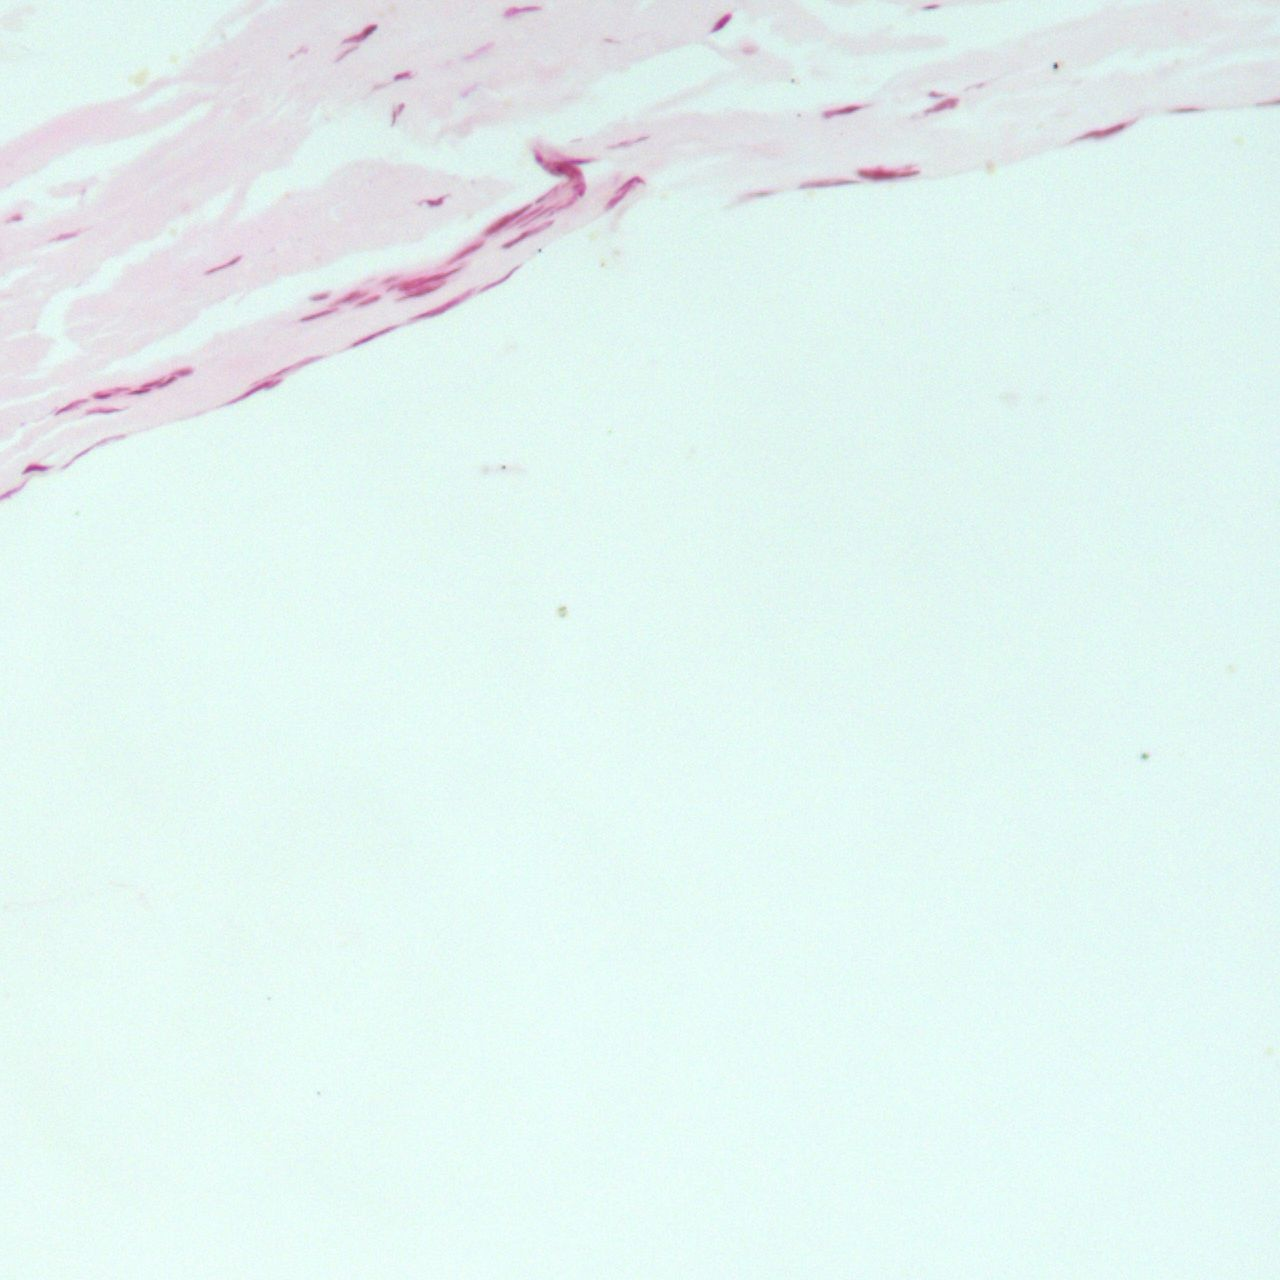dust: (557, 606, 568, 618), (1141, 751, 1149, 760), (1051, 61, 1058, 69), (501, 464, 506, 469), (537, 247, 542, 253), (797, 113, 802, 117), (791, 79, 795, 83)
nucleus-AC: (409, 287, 475, 328), (59, 429, 122, 470), (256, 350, 322, 389), (595, 172, 647, 215), (227, 374, 281, 410), (545, 158, 587, 204), (499, 217, 556, 250), (1073, 117, 1133, 147), (481, 200, 531, 236), (399, 265, 467, 291), (478, 263, 525, 297), (348, 322, 401, 350), (343, 19, 381, 49), (857, 166, 924, 183), (200, 254, 244, 278), (396, 282, 443, 302), (444, 240, 483, 264), (794, 177, 862, 190), (924, 95, 959, 120), (508, 204, 542, 227), (52, 395, 87, 417), (461, 40, 493, 62), (297, 306, 335, 325), (710, 8, 736, 35), (607, 134, 649, 150), (50, 226, 83, 246), (334, 287, 366, 307), (821, 104, 862, 117), (354, 292, 383, 309), (388, 100, 407, 127), (503, 5, 542, 18), (154, 375, 177, 392), (738, 190, 772, 200), (307, 290, 331, 304), (138, 377, 162, 392), (377, 273, 400, 287), (20, 463, 49, 474), (961, 81, 987, 93), (172, 366, 195, 379), (86, 407, 125, 414), (388, 69, 411, 81), (417, 197, 445, 206), (1257, 98, 1280, 108), (1172, 105, 1203, 113), (458, 86, 475, 98), (924, 88, 940, 98), (127, 388, 152, 394), (920, 4, 938, 12), (91, 392, 111, 399), (600, 36, 619, 43), (11, 215, 22, 220)
